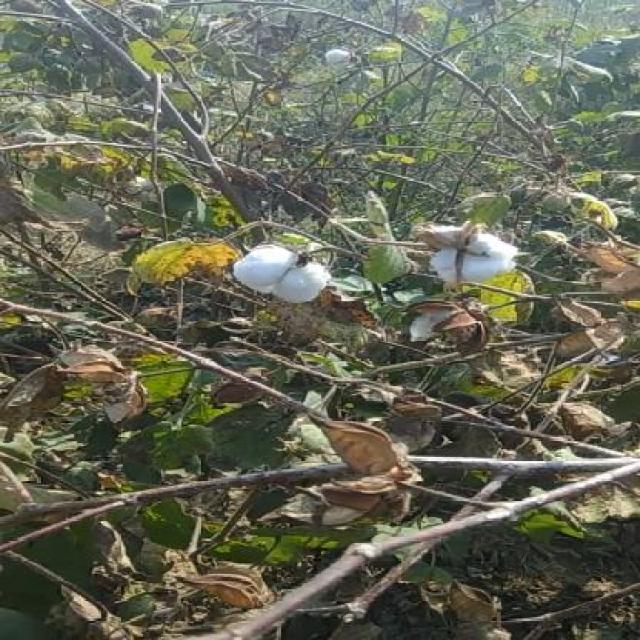cotton_ready: (399, 215, 526, 308), (217, 234, 349, 318)
